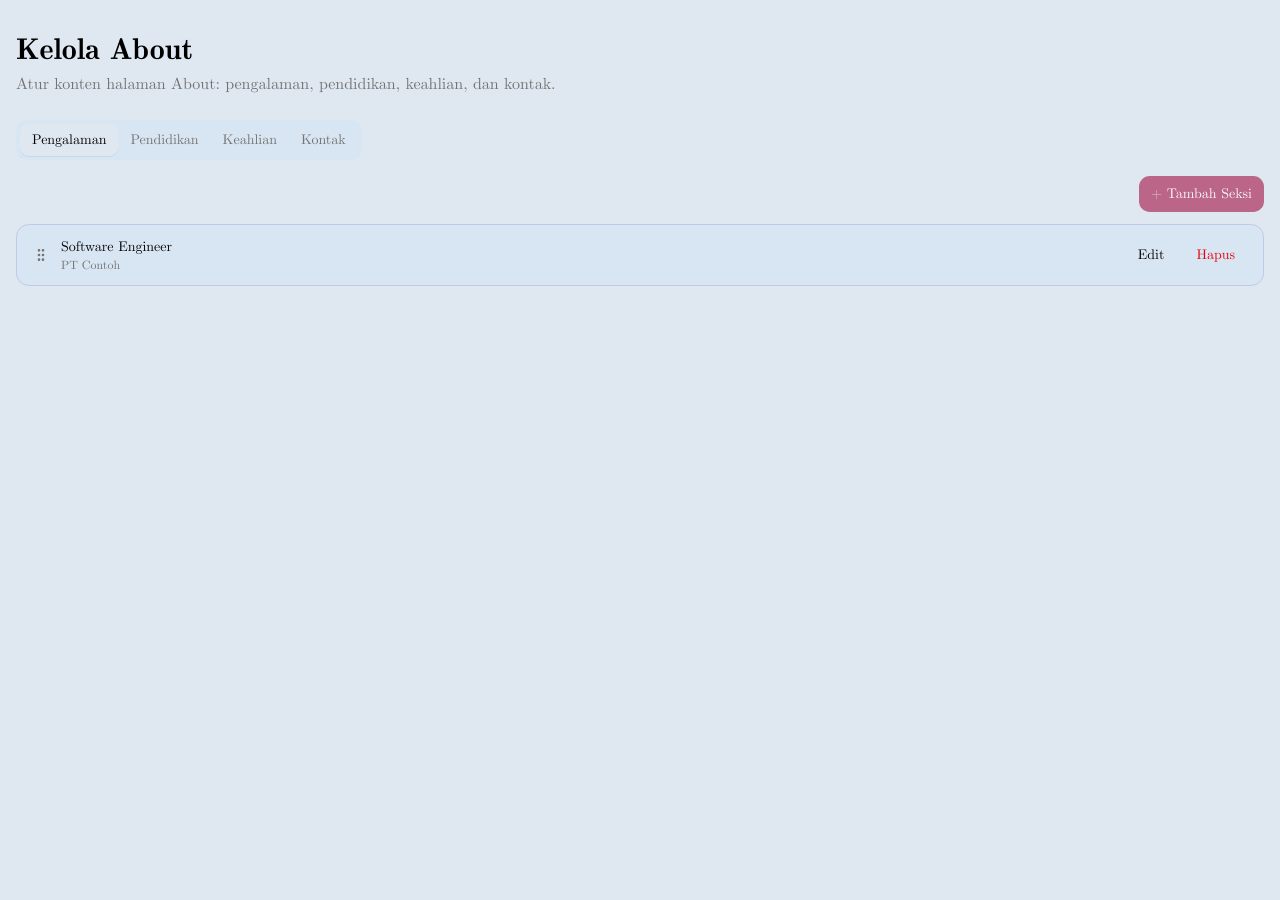
Test case: AboutAdminPage › menutup AlertDialog ketika Batal diklik
This screenshot has width=1280, height=900.
Step 1. Click the button with test id "delete-button" → coordinates (1216, 255), box [1184,237,1247,273]
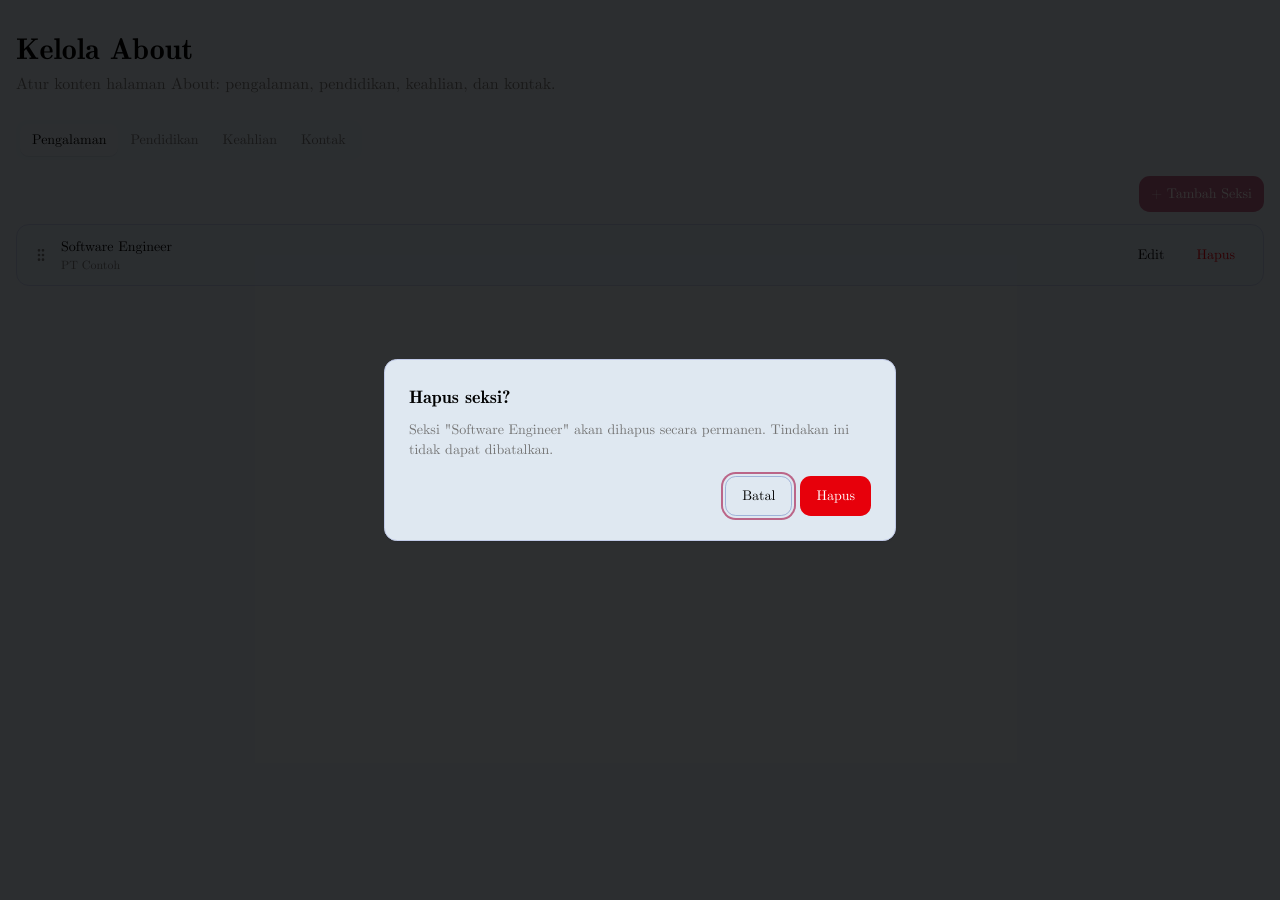
Result: the heading "Hapus seksi?" is shown at [409,389,510,407]
Step 2. Click the button "Batal" → coordinates (759, 496), box [725,476,792,516]
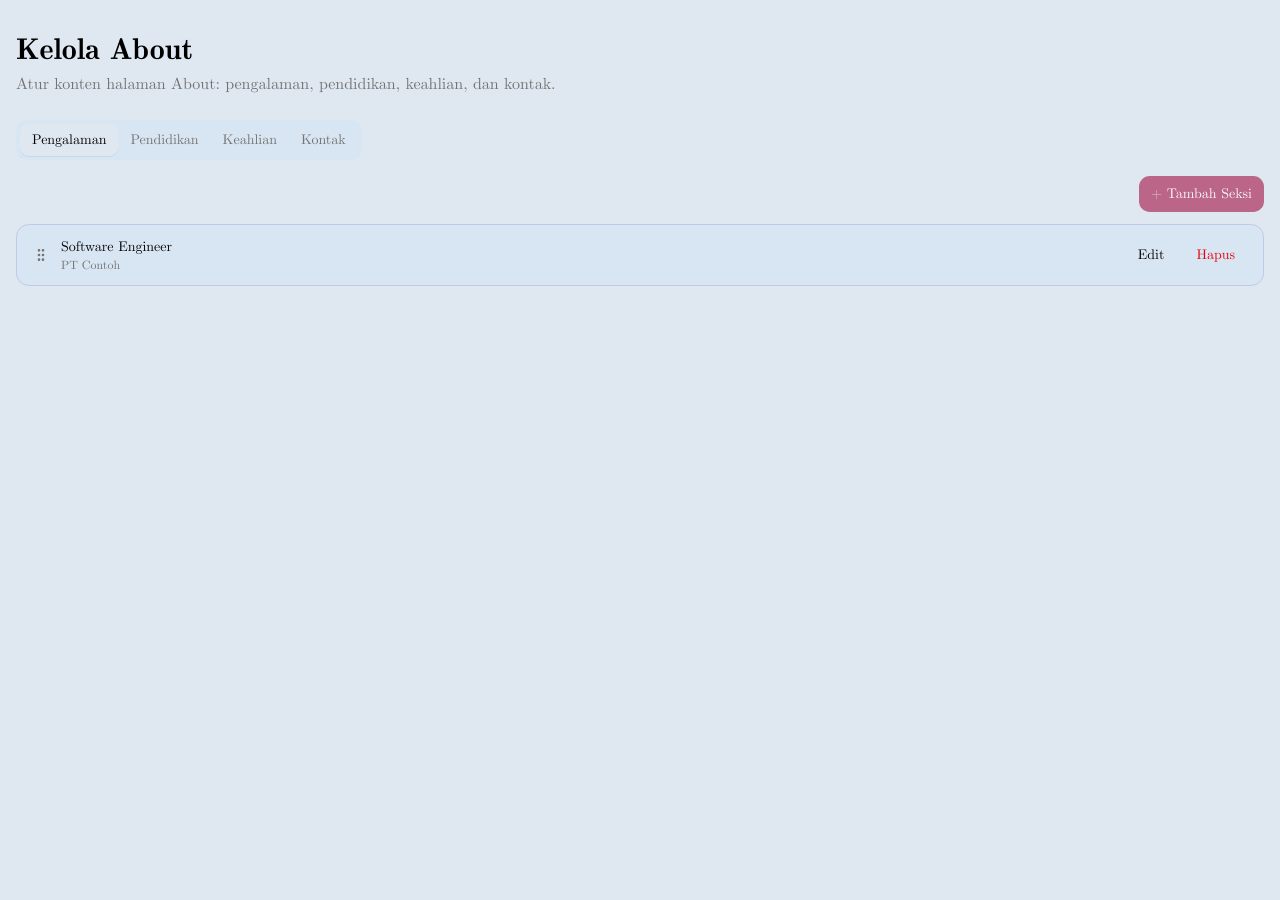
Result: the heading "Hapus seksi?" is gone
